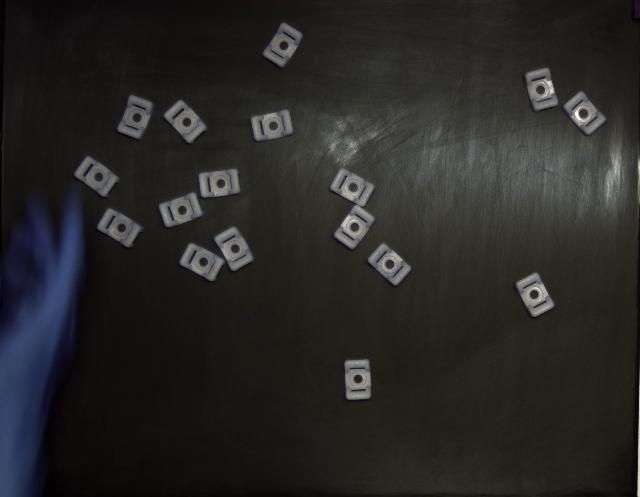first_side: (330, 169, 375, 250), (562, 91, 606, 136), (164, 100, 208, 144), (74, 156, 119, 198), (262, 22, 302, 68), (515, 272, 555, 318), (368, 244, 411, 286), (98, 209, 142, 248), (215, 228, 254, 271), (180, 244, 225, 281), (330, 169, 375, 206), (118, 95, 154, 140), (525, 68, 559, 111), (159, 194, 202, 228), (251, 110, 294, 141), (199, 169, 241, 198), (345, 360, 371, 400)
